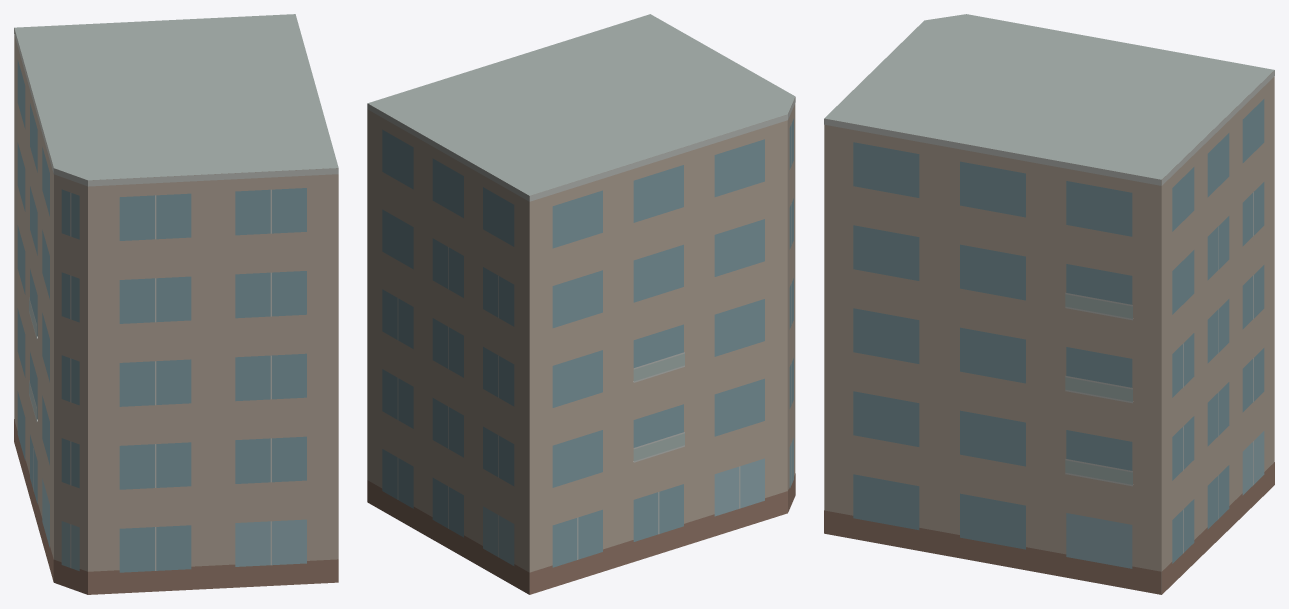
File: survey-upis-32524517.glb
3 views of the same model, side by side, from view 1: azimuth 30°, elevation 25°; view 2: azimuth 150°, elevation 25°; view 3: azimuth 270°, elevation 25° (orthographic). The views are drawn at different scales.
Visible parts, largest first — view 1: survey-upis-32524517.tmp; view 2: survey-upis-32524517.tmp; view 3: survey-upis-32524517.tmp.
Part boxes in pixels (x1,y1,x2,y2): survey-upis-32524517.tmp: [14, 14, 338, 594]; survey-upis-32524517.tmp: [367, 14, 795, 594]; survey-upis-32524517.tmp: [824, 14, 1274, 594].
Size of the model in its own units: 14.05 by 16.4 by 16.14.
